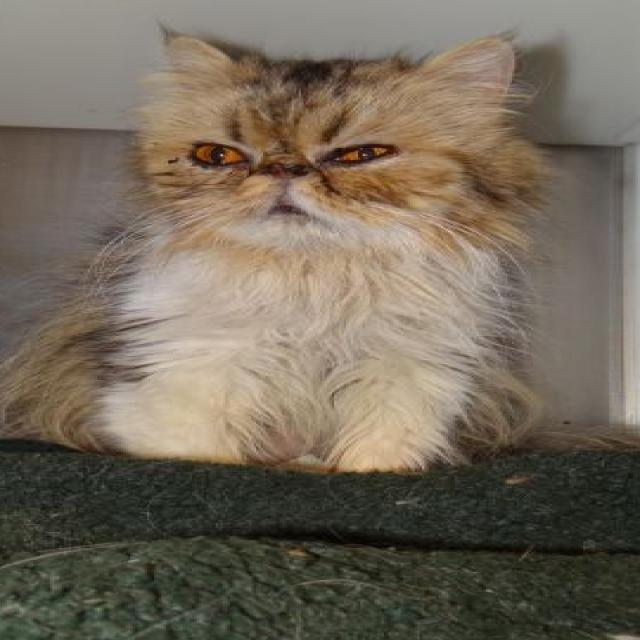Persian: (0, 26, 555, 486)
